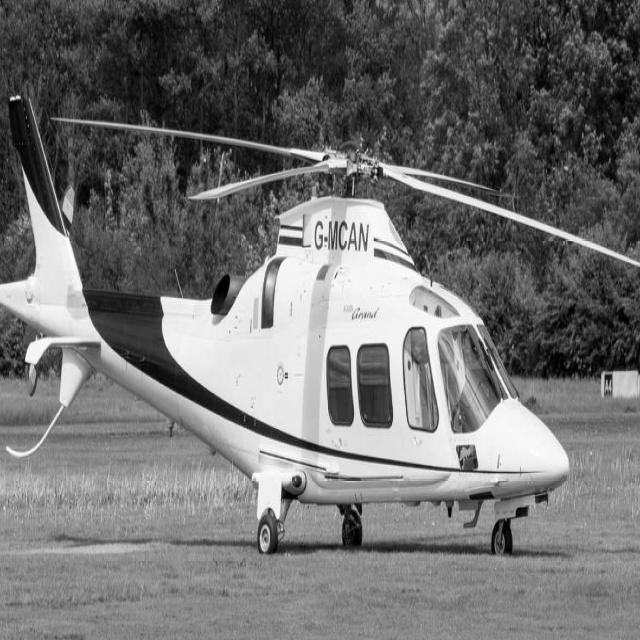helicopter: (1, 76, 617, 569)
